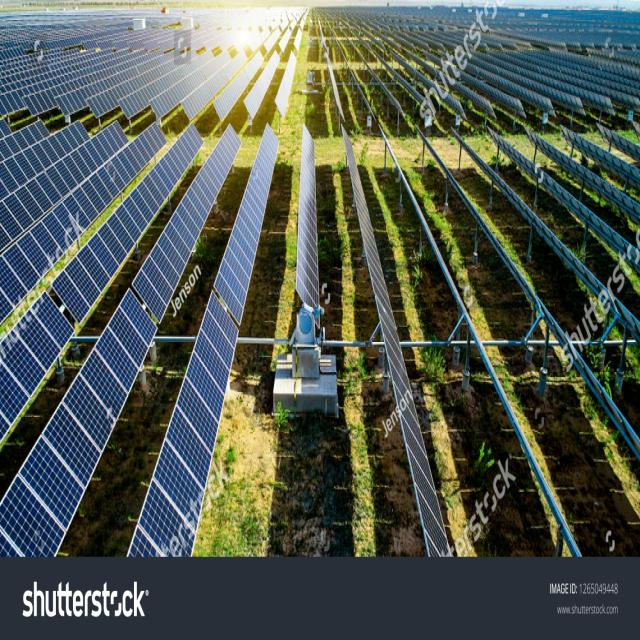clean-solar-panel: (0, 127, 240, 556), (128, 124, 279, 556), (54, 124, 202, 322), (1, 293, 72, 444), (296, 124, 319, 310)
